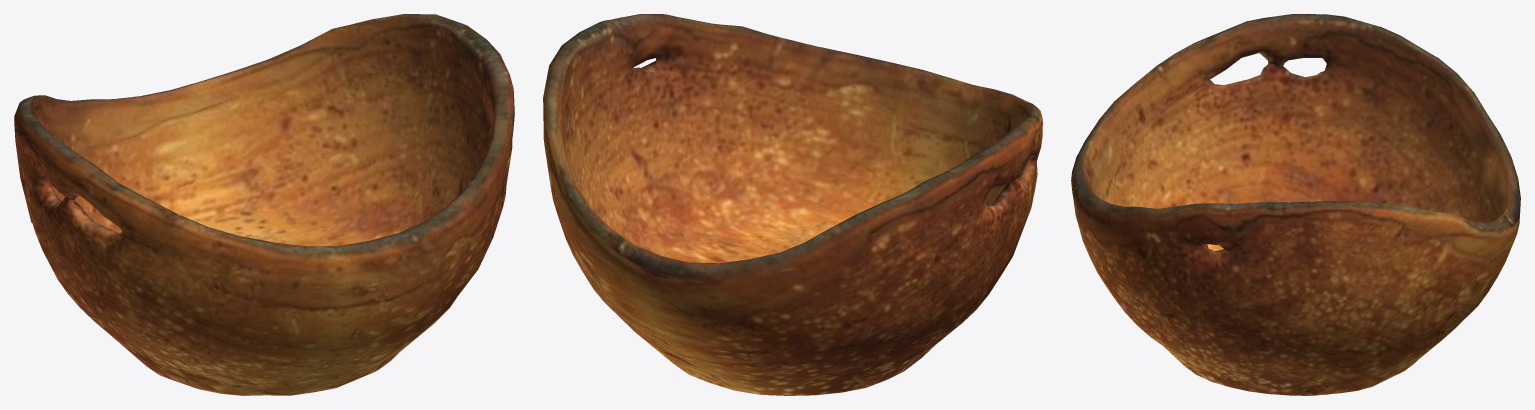
The model's file is wooden_bowl_02.glb.
3 views of the same model, side by side, from view 1: azimuth 30°, elevation 25°; view 2: azimuth 150°, elevation 25°; view 3: azimuth 270°, elevation 25° (orthographic). The views are drawn at different scales.
Parts seen in each view (by area): view 1: wooden_bowl_02; view 2: wooden_bowl_02; view 3: wooden_bowl_02.
Part boxes in pixels (x1=…): wooden_bowl_02: x1=14, y1=14, x2=514, y2=395; wooden_bowl_02: x1=543, y1=14, x2=1042, y2=395; wooden_bowl_02: x1=1071, y1=14, x2=1520, y2=395.
Bounding box in the file's own units: 0.1307 × 0.0731 × 0.1245.
1 material, 1 textured.
